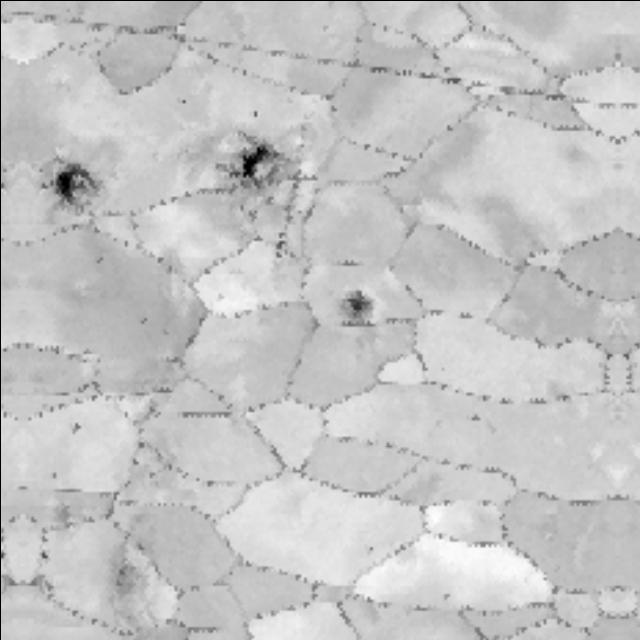good_void: (210, 124, 307, 222), (34, 152, 107, 224), (92, 533, 149, 625), (330, 279, 384, 323), (54, 417, 96, 444), (78, 247, 112, 273), (127, 306, 156, 336), (462, 407, 492, 427), (172, 92, 198, 112), (247, 106, 264, 120)
